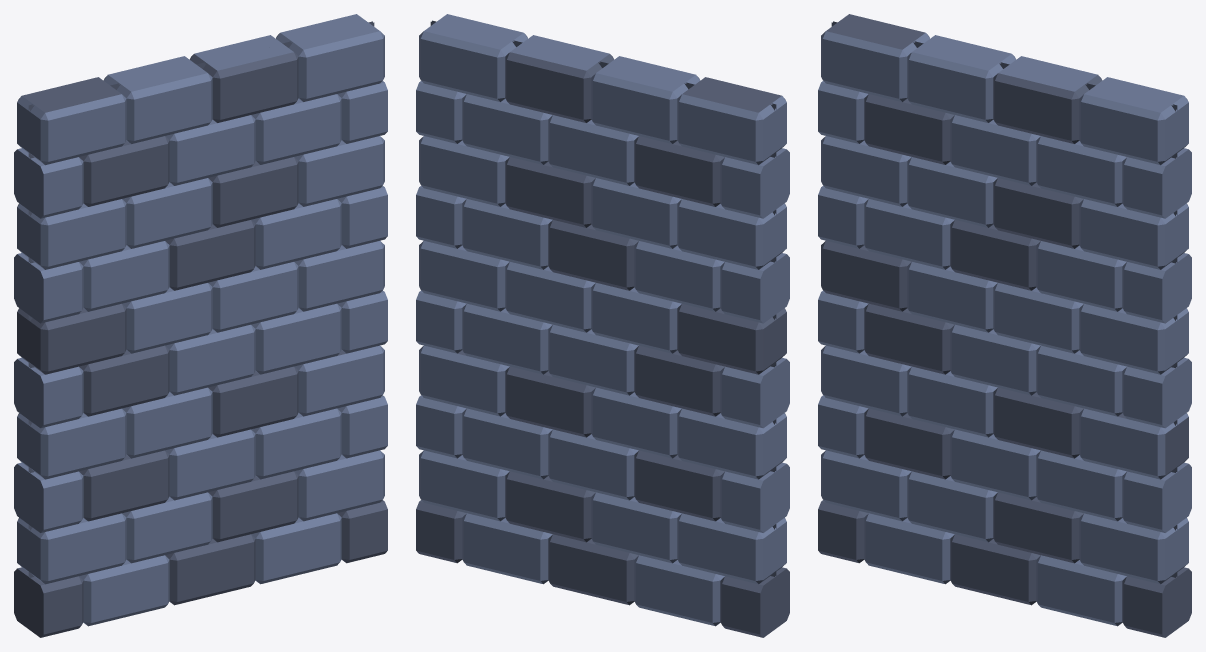
Rendered from wall.glb.
3 views of the same model, side by side, from view 1: azimuth 30°, elevation 25°; view 2: azimuth 150°, elevation 25°; view 3: azimuth 330°, elevation 25° (orthographic).
Parts seen in each view (by area): view 1: brick wall; view 2: brick wall; view 3: brick wall.
Part boxes in pixels (x1,y1,x2,y2): brick wall: (14,14,387,637); brick wall: (416,14,789,637); brick wall: (818,14,1191,637).
Bounding box in the file's own units: 2.11 × 3.06 × 0.3126.
